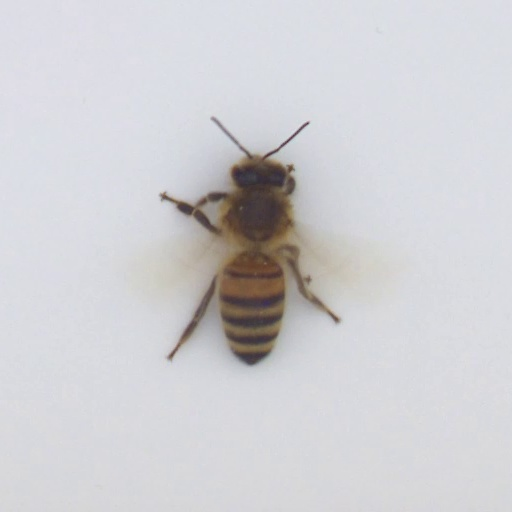Bee: (224, 155, 289, 361)
Thorax: (216, 189, 300, 250)
